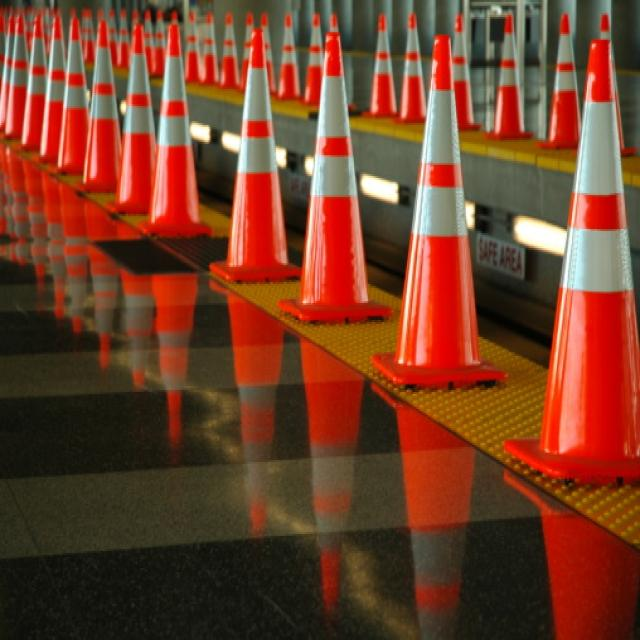cone: (501, 32, 639, 496), (373, 34, 508, 386), (274, 28, 392, 320), (209, 25, 296, 282), (135, 21, 209, 237), (104, 19, 158, 212), (74, 19, 121, 191), (475, 11, 532, 142), (532, 12, 583, 150), (45, 17, 87, 174), (12, 10, 46, 152), (389, 9, 428, 125), (360, 12, 397, 118), (209, 11, 241, 86), (276, 8, 300, 98), (195, 12, 217, 84)
